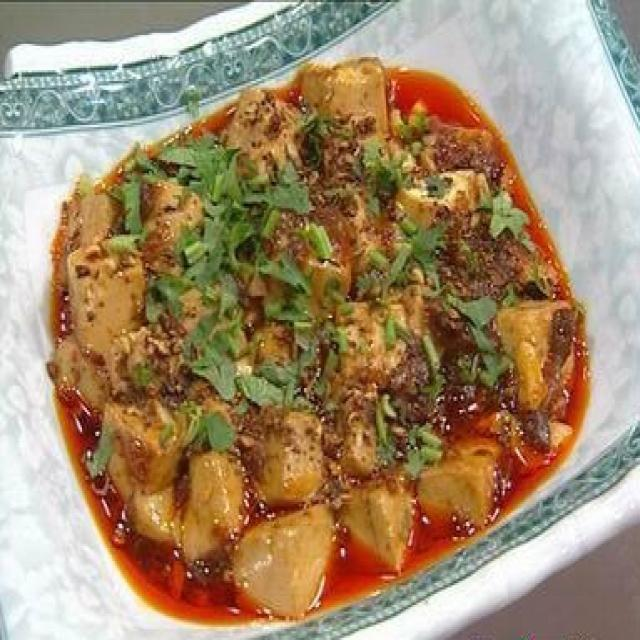豆腐料理: (22, 46, 613, 622)
